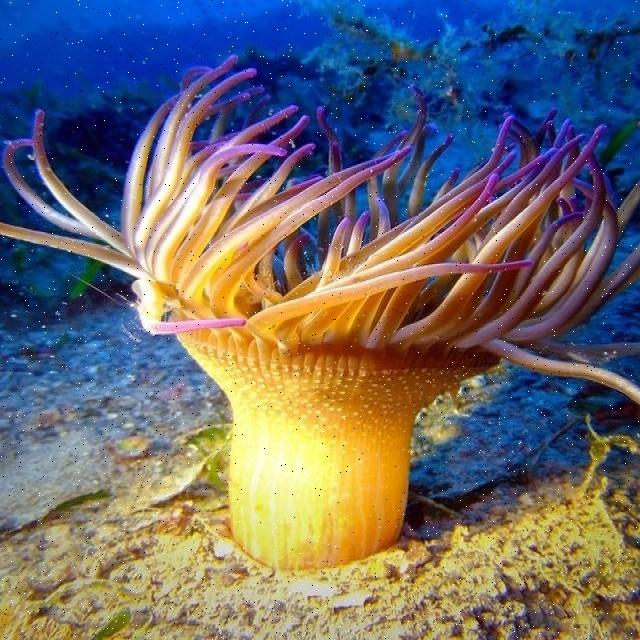reefs: (0, 55, 639, 569)
